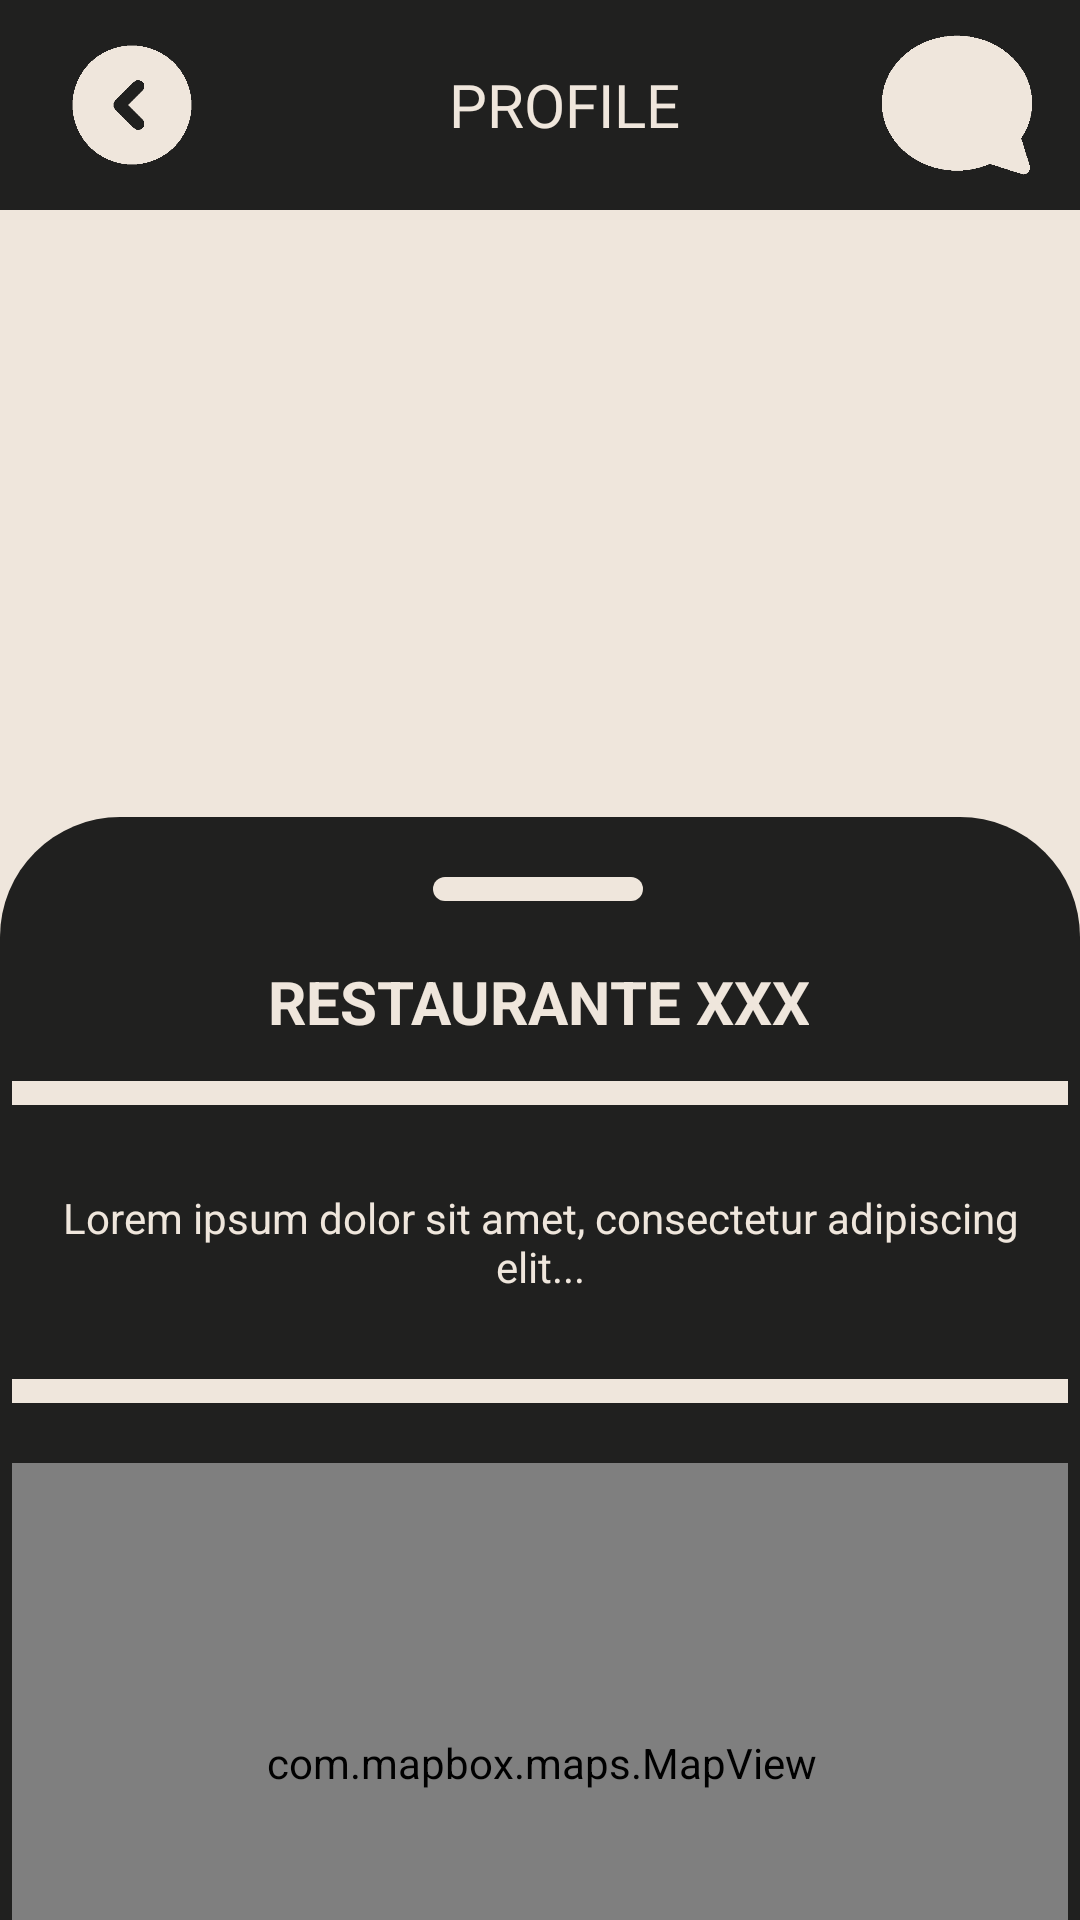

Point at icon controls on the screen. Image size 1080x1920, points as (x,y).
message: (957,105)
